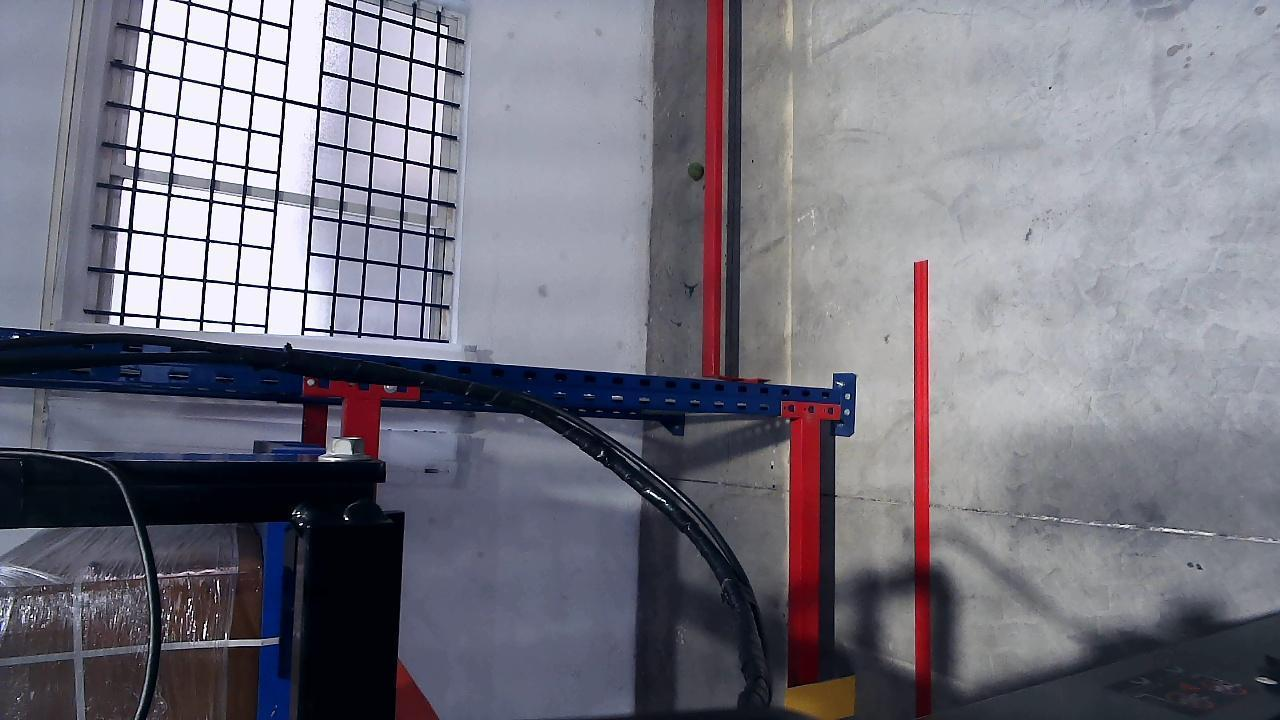red_line: (911, 258, 932, 717)
